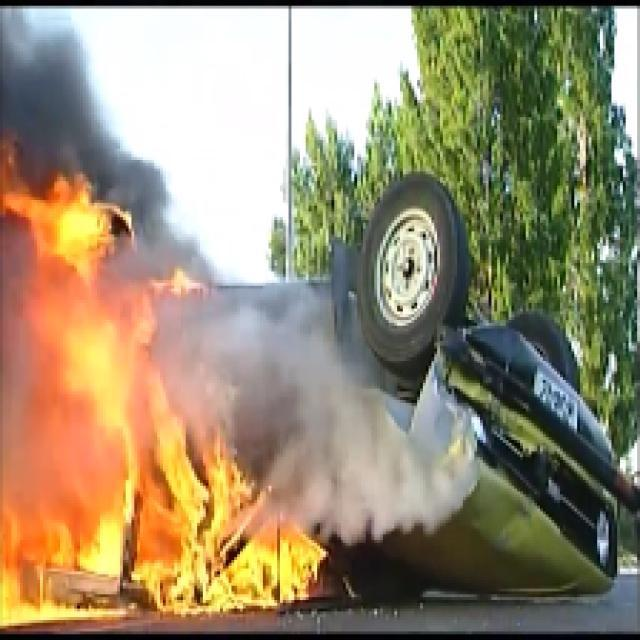Fire: (3, 139, 326, 632)
Smoke: (251, 292, 466, 542), (3, 3, 103, 160)
